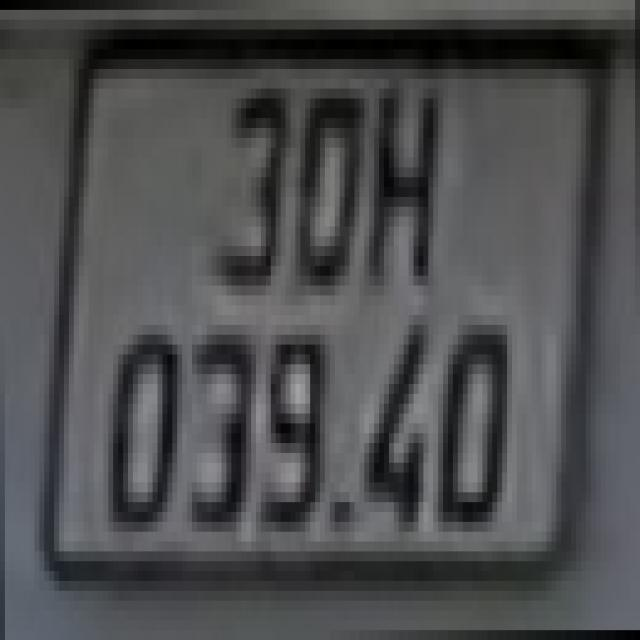0: (433, 315, 512, 532), (104, 325, 178, 532), (298, 74, 362, 290)
3: (212, 78, 286, 296), (187, 325, 251, 532)
4: (364, 315, 428, 532)
9: (261, 325, 325, 532)
H: (369, 68, 443, 296)
